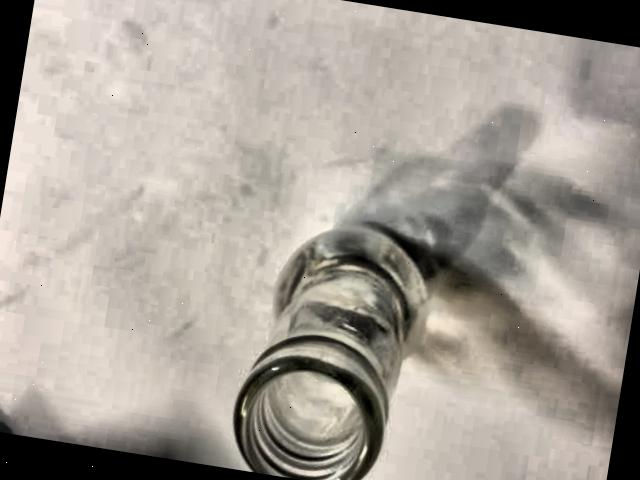Bottles: (211, 200, 474, 480)
